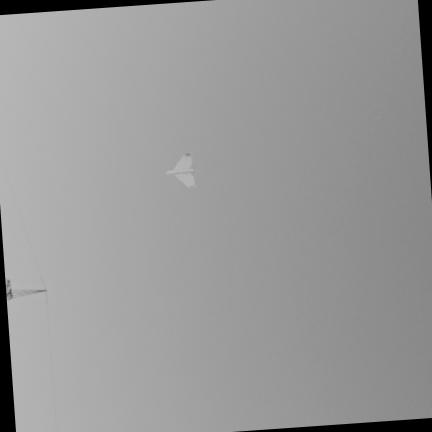Shahed: (166, 153, 194, 187)
